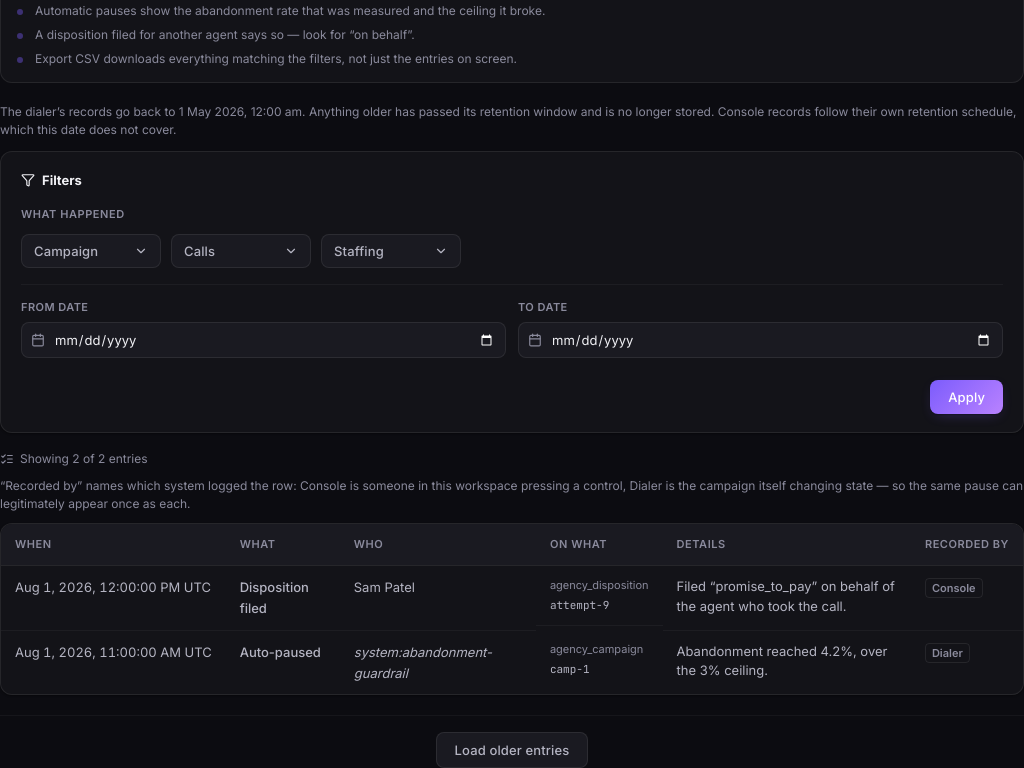
Test: paging › offers older entries only while the stream has more, and appends them
(page scrolled)
Click the button "Load older entries". click: (512, 750)
box: [436, 732, 588, 767]
(page scrolled)
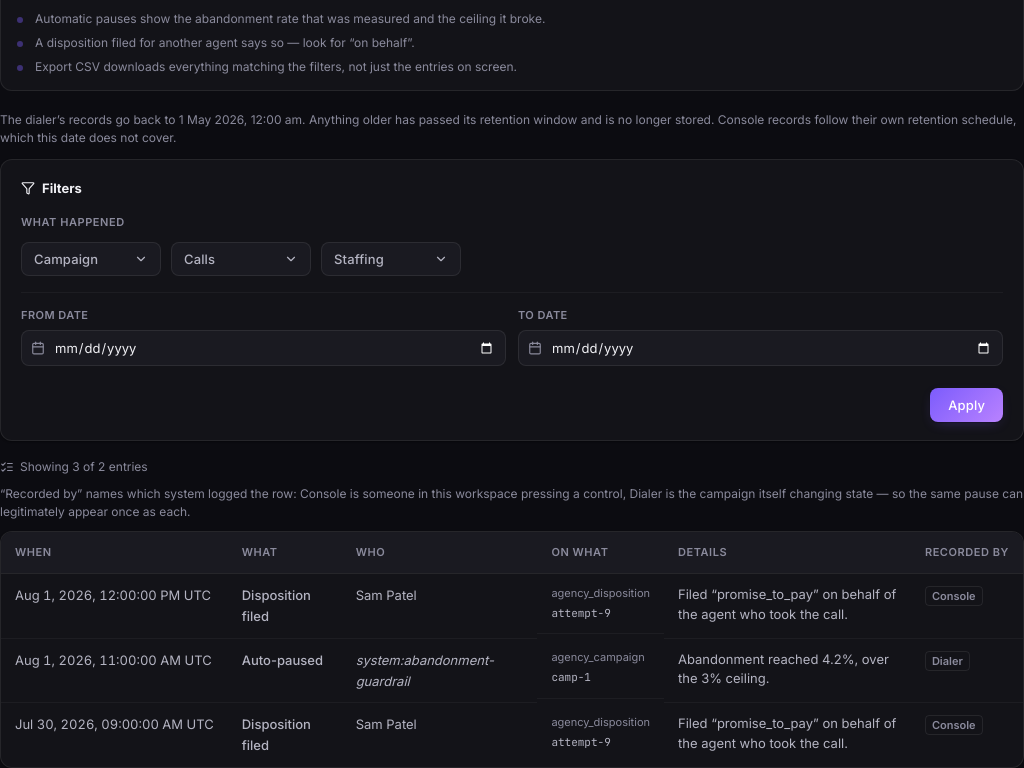
Check: the row with test id "activity-row-core:c-auto" is shown, box [1, 638, 1023, 703]
Check: the row with test id "activity-row-master:m-old" is shown, box [1, 703, 1023, 767]
Check: the button "Load older entries" is gone
